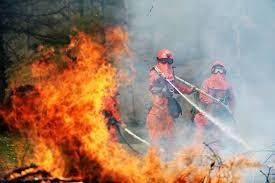fire: (1, 20, 141, 182)
